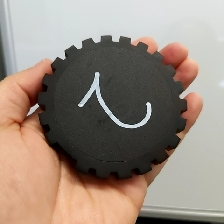gear: (36, 33, 189, 181)
missing: (43, 127, 91, 175)
